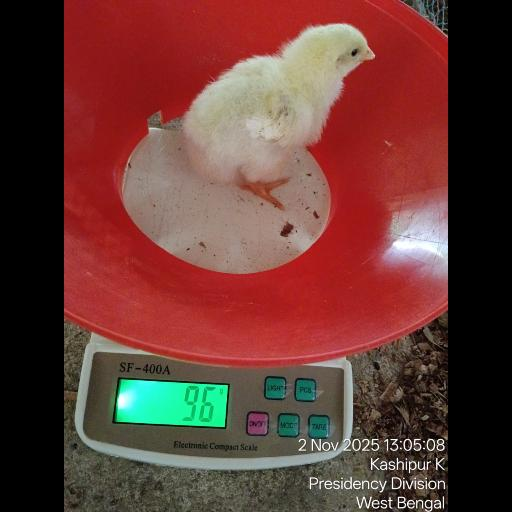chick: (181, 26, 376, 209)
